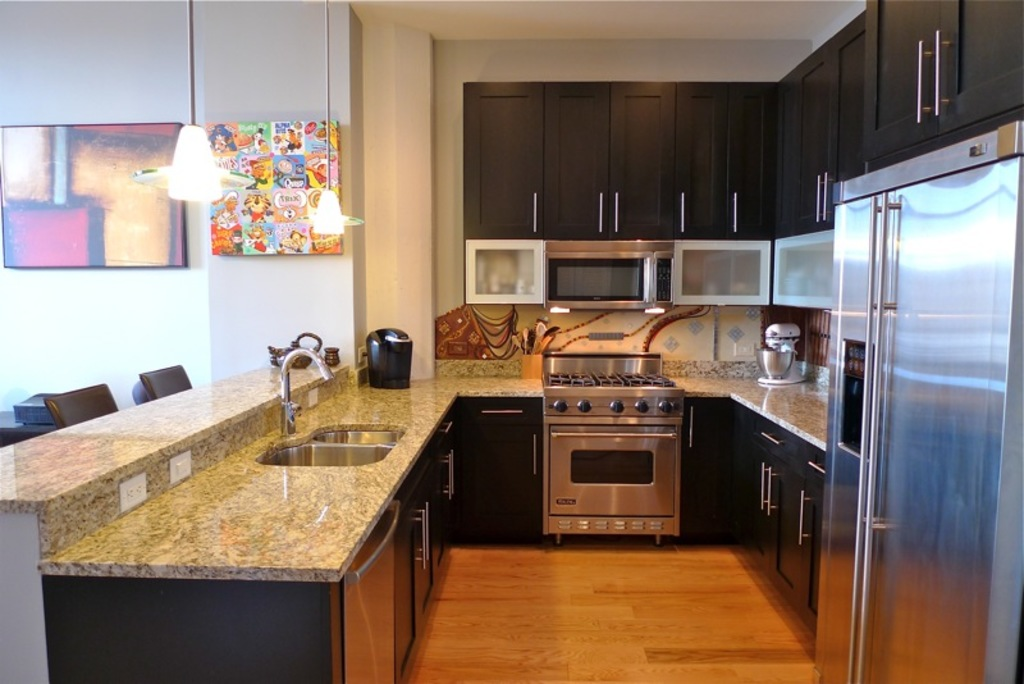cabinet door: (462, 85, 546, 250), (708, 81, 790, 236), (866, 5, 951, 151), (606, 85, 673, 243), (543, 86, 606, 250), (938, 15, 1024, 129), (463, 423, 539, 540), (669, 83, 712, 243), (786, 71, 828, 233), (823, 43, 873, 178), (781, 490, 822, 606), (685, 396, 716, 530), (758, 457, 787, 588), (730, 435, 763, 547), (458, 397, 532, 416)
handle: (861, 181, 894, 684), (845, 191, 881, 641), (550, 417, 675, 447), (355, 502, 398, 579), (927, 29, 953, 121), (913, 39, 930, 131), (523, 189, 545, 238), (414, 508, 433, 564), (674, 188, 694, 239), (791, 491, 808, 549), (811, 172, 829, 225), (422, 502, 438, 561), (723, 180, 738, 239), (758, 421, 787, 450), (595, 186, 610, 238), (478, 401, 520, 419), (822, 169, 834, 230), (754, 463, 769, 510), (763, 465, 776, 518), (445, 445, 462, 485), (441, 453, 454, 503), (803, 463, 834, 482), (610, 187, 622, 233), (530, 429, 540, 474), (440, 412, 459, 433), (689, 398, 696, 450)
refrigerator door: (893, 194, 1012, 684), (828, 205, 882, 676)
